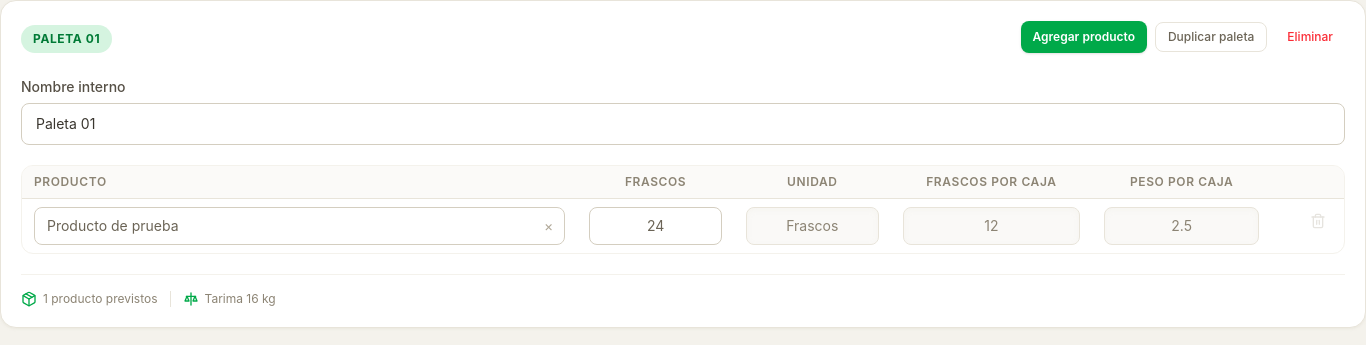
Test: PalletCard — reusable product combobox › does not render a second "Buscar producto" textbox in the dropdown
Click the dropdown named "producto": (300, 226) [34,207,565,245]
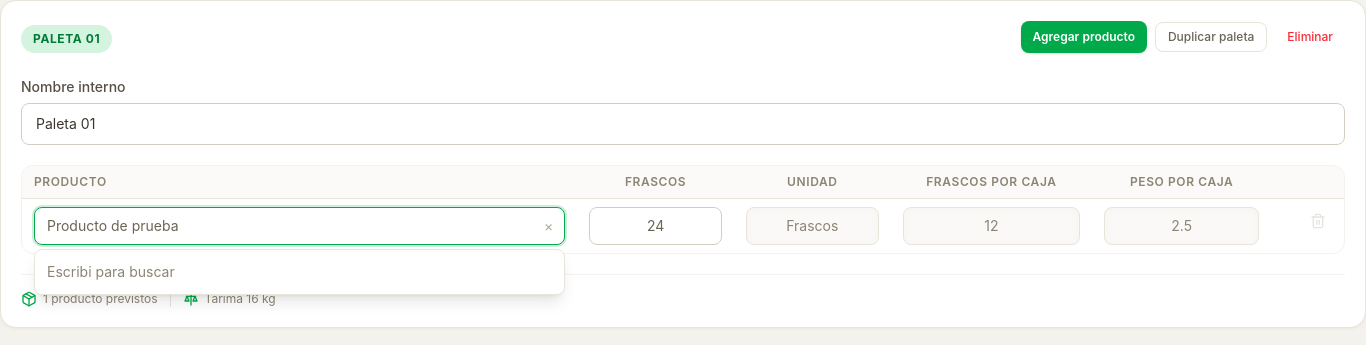
expect the list is shown: met, box [47,263,175,280]
